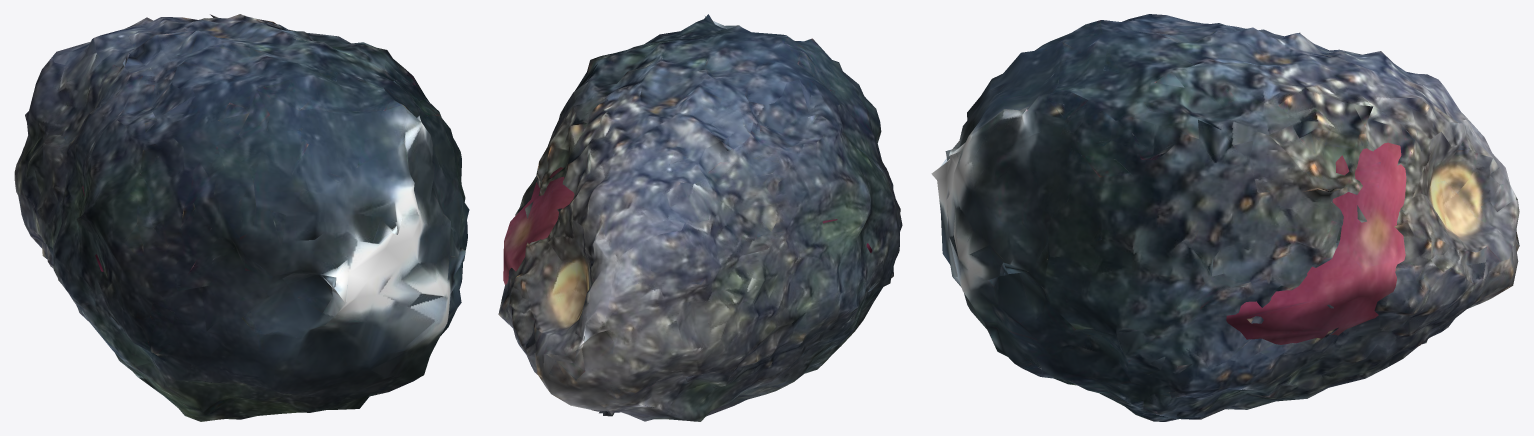
File: Set_Banana with Pressed Banana and Broccoli.obj
The picture shows the model from 3 angles, left to right: view 1: azimuth 30°, elevation 25°; view 2: azimuth 150°, elevation 25°; view 3: azimuth 270°, elevation 25°; orthographic projection. The views are drawn at different scales.
Visible parts, largest first — view 1: Set_Banana_with_Pressed_Banana_and_Broccoli_avocado; view 2: Set_Banana_with_Pressed_Banana_and_Broccoli_avocado; view 3: Set_Banana_with_Pressed_Banana_and_Broccoli_avocado.
Boxes of the visible parts, x1,y1,x2,y2 form: Set_Banana_with_Pressed_Banana_and_Broccoli_avocado: [14, 14, 469, 421]; Set_Banana_with_Pressed_Banana_and_Broccoli_avocado: [498, 14, 902, 421]; Set_Banana_with_Pressed_Banana_and_Broccoli_avocado: [931, 14, 1519, 421].
Size of the model in its own units: 0.8718 by 0.8601 by 1.27.
Materials: 2 (2 with a texture image).
